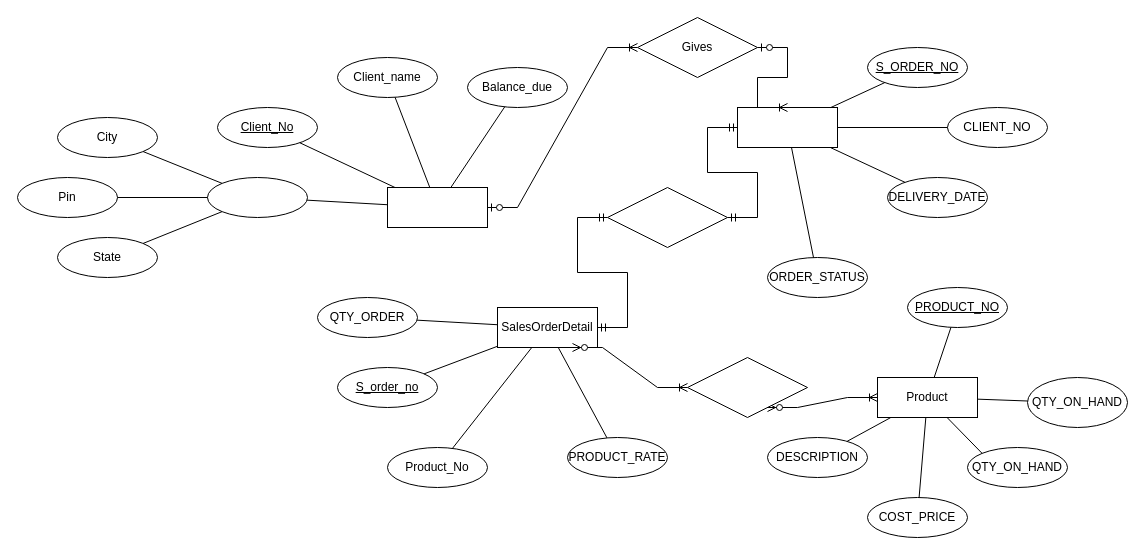
The diagram is 1145 pixels wide and 555 high, and some of its shapes have lost their labels. The centre of each missing label's shape, as x and y in pixels:
Address: point 257,197
Client: point 437,207
Describes: point 667,217
For: point 747,387
SalesOrder: point 787,127
